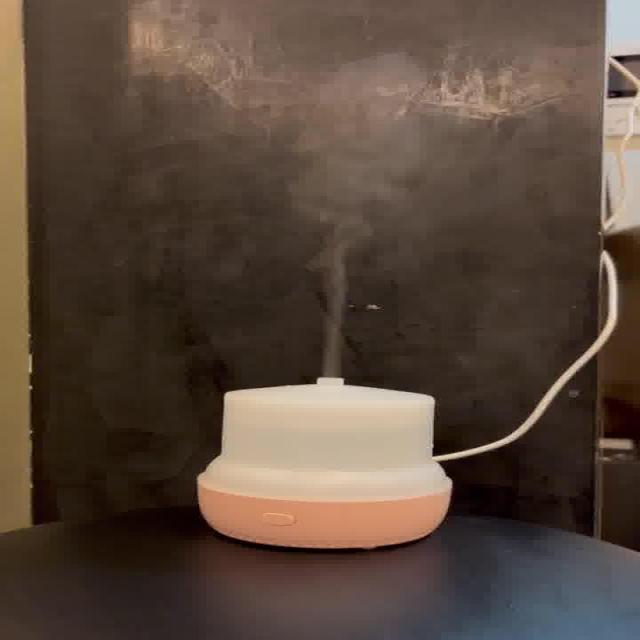fire: (311, 51, 427, 371)
